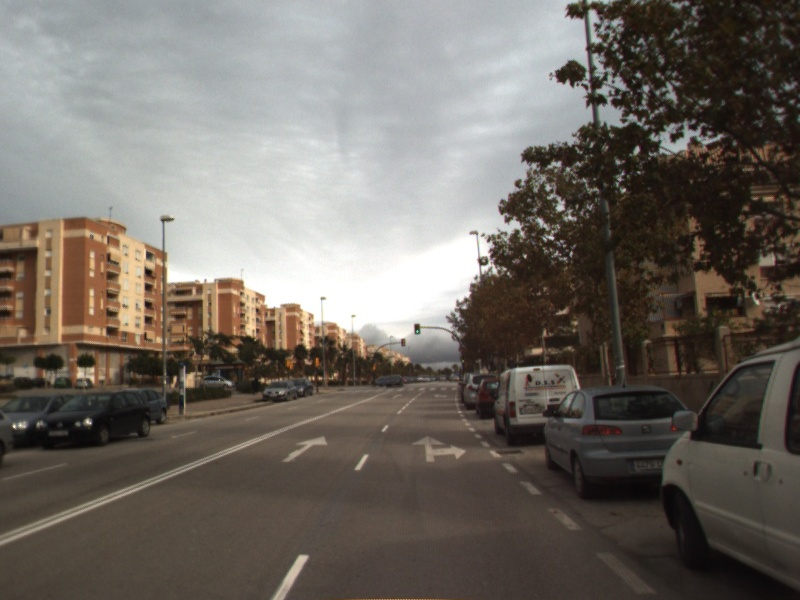STRAIGHT: (279, 433, 330, 464)
STRAIGHT_RIGHT: (410, 433, 469, 464)
